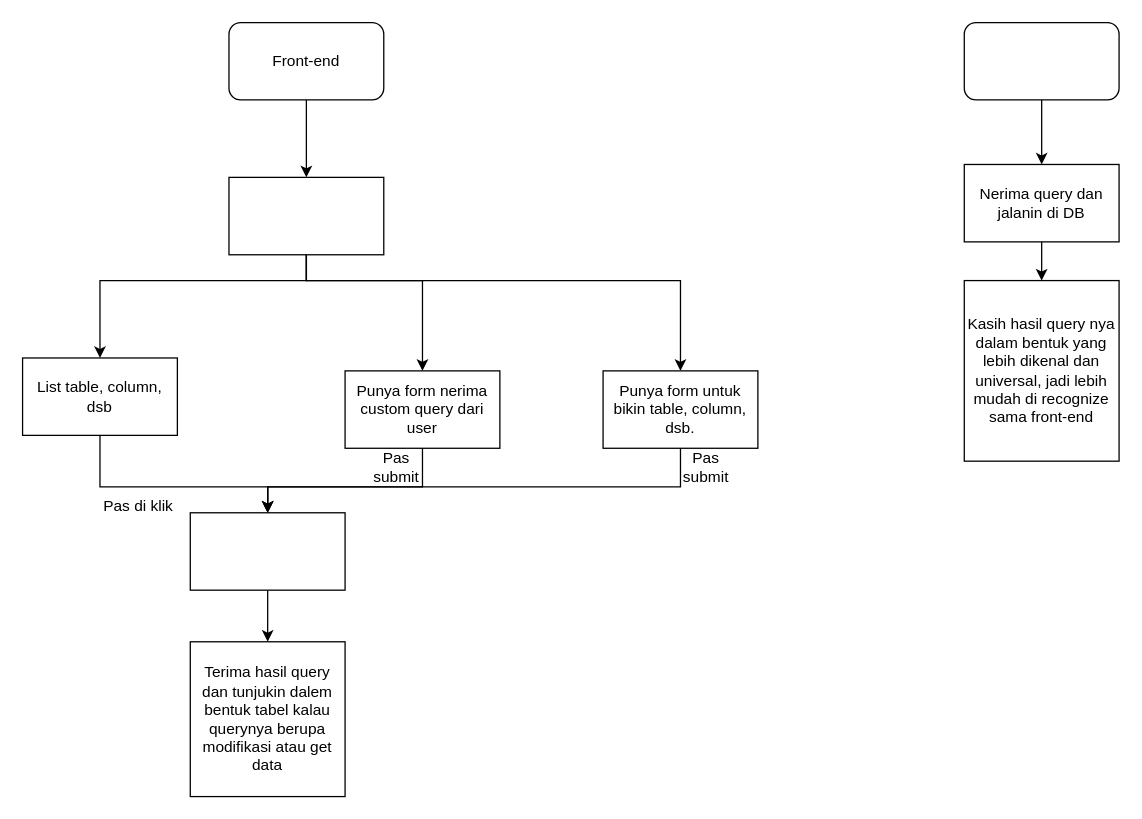
Image size: 1142x819. Some labels were removed from this diagram. The shapes that lost their labels are listed below. From the top down, each one's centre as x and y in pixels, then its label:
At point (1041, 60): "Back-end".
At point (306, 215): "Login pake cred database, simpen di cookie buat ngelakuin query dsb.".
At point (267, 550): "Method buat ngasih query ke back-end".
